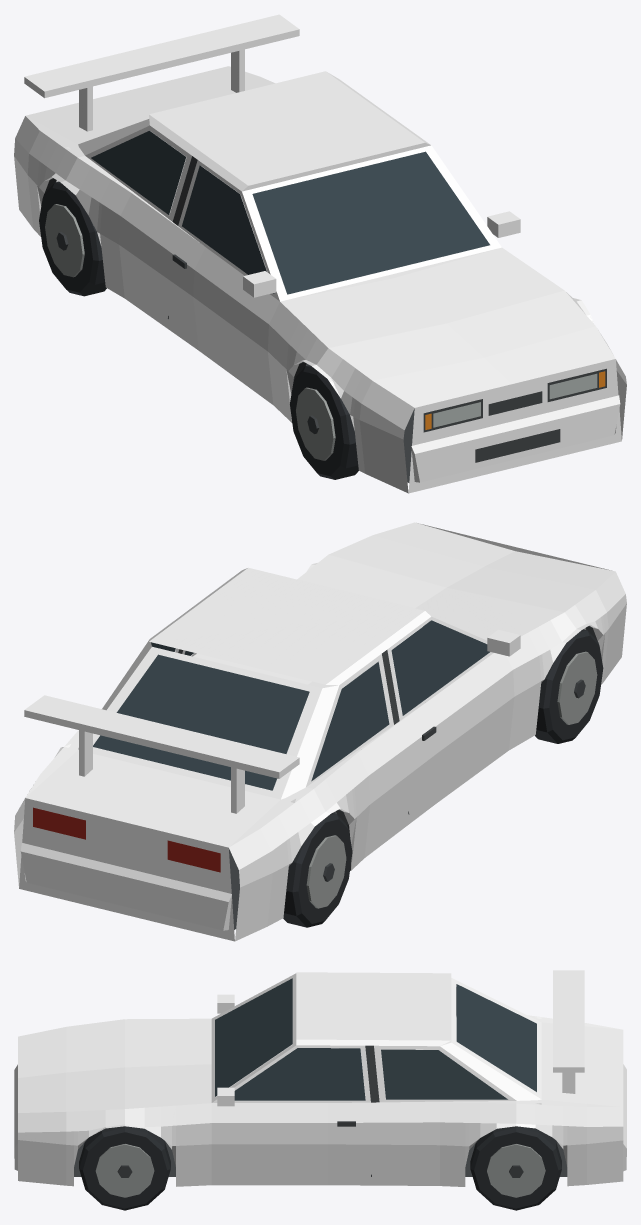
File: kanaya_shinonome_corrida.glb
3 views of the same model, one above another, from view 1: azimuth 30°, elevation 25°; view 2: azimuth 150°, elevation 25°; view 3: azimuth 270°, elevation 25° (orthographic). The views are drawn at different scales.
Visible parts, largest first — view 1: kanaya_shinonome_corrida; view 2: kanaya_shinonome_corrida; view 3: kanaya_shinonome_corrida.
Part boxes in pixels (x1,y1,x2,y2): kanaya_shinonome_corrida: (14, 14, 626, 493); kanaya_shinonome_corrida: (14, 522, 626, 941); kanaya_shinonome_corrida: (14, 970, 626, 1210).
Size of the model in its own units: 1.69 by 1.2 by 4.26.
Materials: 8 (1 with a texture image).
